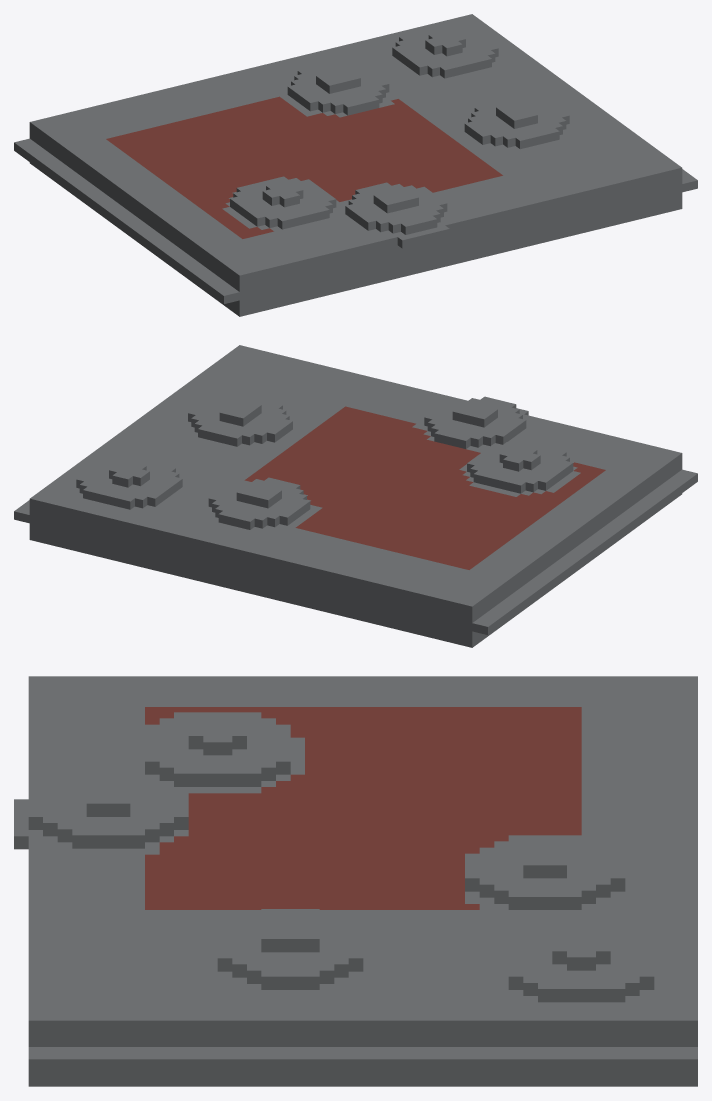
File: heatpack_used.glb
3 renders of one model, top to bottom at view 1: azimuth 30°, elevation 25°; view 2: azimuth 150°, elevation 25°; view 3: azimuth 270°, elevation 25°, orthographic. The views are drawn at different scales.
Visible parts, largest first — view 1: heatpack_used:compound; view 2: heatpack_used:compound; view 3: heatpack_used:compound.
Boxes of the visible parts, left/top/right/bottom form: heatpack_used:compound: left=14, top=14, right=697, bottom=316; heatpack_used:compound: left=14, top=345, right=697, bottom=647; heatpack_used:compound: left=14, top=676, right=697, bottom=1086.
Bounding box in the file's own units: 0.12 × 0.014 × 0.094.
